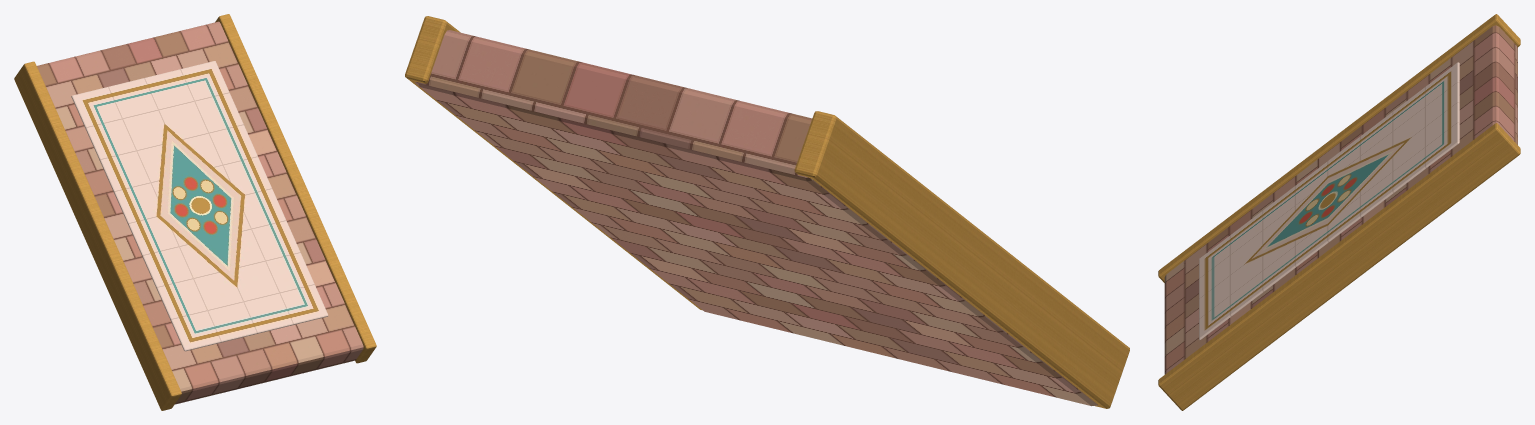
The model's file is act2_entry_ramp.glb.
The picture shows the model from 3 angles, left to right: view 1: azimuth 30°, elevation 25°; view 2: azimuth 150°, elevation 25°; view 3: azimuth 270°, elevation 25°; orthographic projection. The views are drawn at different scales.
Visible parts, largest first — view 1: SM_Act2_EntryRamp_Mesh; view 2: SM_Act2_EntryRamp_Mesh; view 3: SM_Act2_EntryRamp_Mesh.
Part boxes in pixels (x1,y1,x2,y2): SM_Act2_EntryRamp_Mesh: (14,14,376,410); SM_Act2_EntryRamp_Mesh: (405,16,1129,408); SM_Act2_EntryRamp_Mesh: (1158,14,1520,410).
Size of the model in its own units: 1.49 by 1.71 by 1.98.
3 materials, 3 textured.
